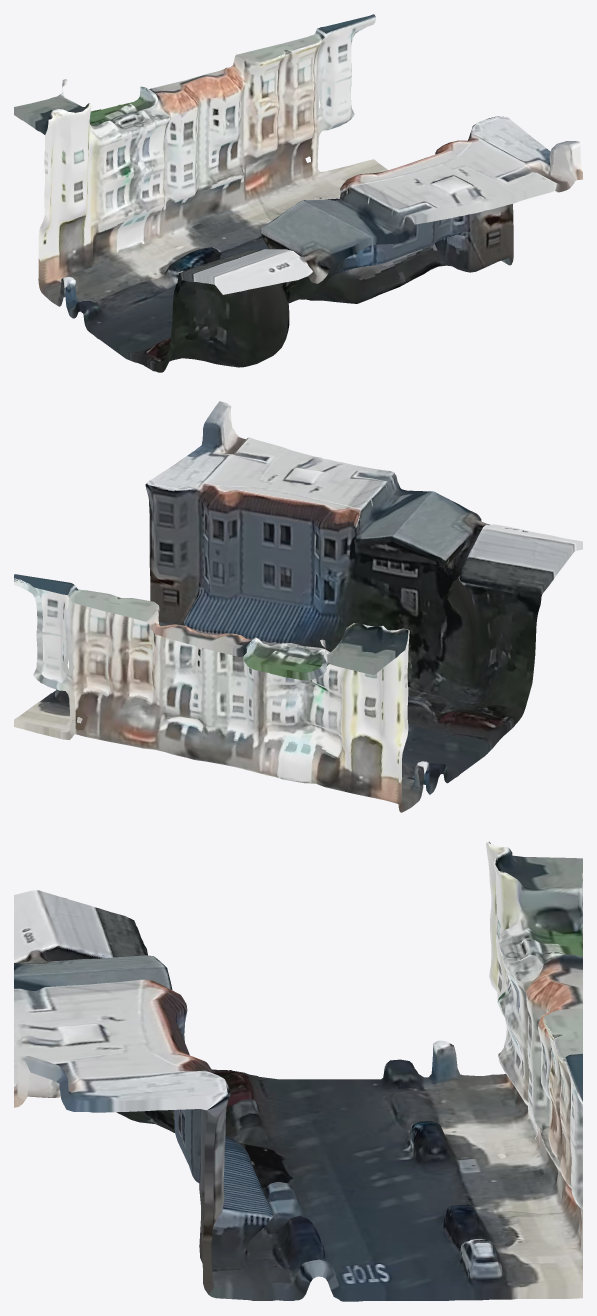
The model's file is z20-167744-405196-h0-yup-uvflip-v3-world.glb.
3 renders of one model, top to bottom at view 1: azimuth 30°, elevation 25°; view 2: azimuth 150°, elevation 25°; view 3: azimuth 270°, elevation 25°, orthographic. The views are drawn at different scales.
Bounding box in the file's own units: 30.16 × 15.88 × 30.32.
Materials: 1 (1 with a texture image).
